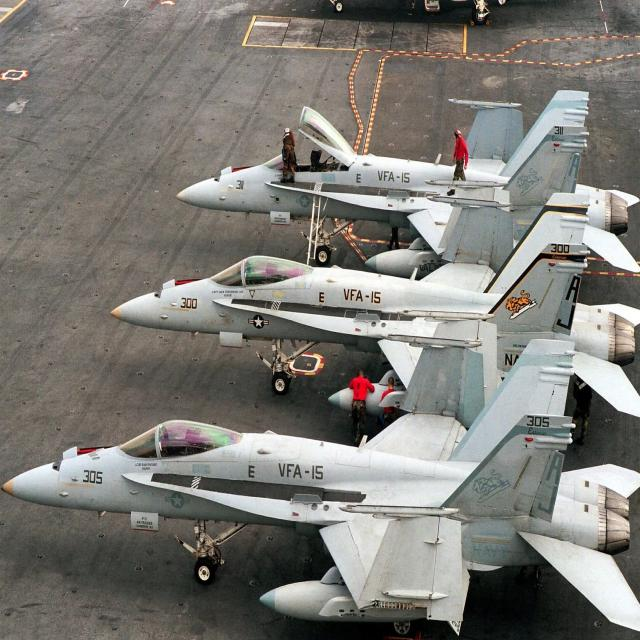MIL_Plane: (0, 333, 639, 640), (109, 195, 640, 418), (176, 96, 640, 279)
